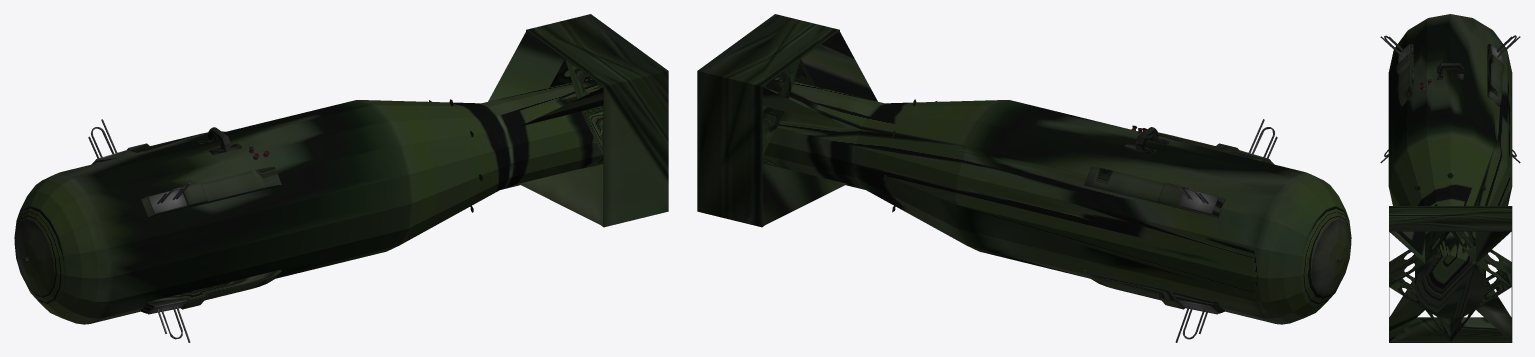
3 renders of one model, left to right at view 1: azimuth 30°, elevation 25°; view 2: azimuth 150°, elevation 25°; view 3: azimuth 270°, elevation 25°, orthographic. The views are drawn at different scales.
Visible parts, largest first — view 1: Object_7, Object_6, Object_4, Object_5, Object_2; view 2: Object_7, Object_6, Object_4, Object_5, Object_2; view 3: Object_7, Object_6, Object_4, Object_5, Object_2.
Boxes of the visible parts, left/top/right/bottom form: Object_7: left=14, top=78, right=603, bottom=324; Object_6: left=488, top=14, right=668, bottom=227; Object_4: left=93, top=131, right=281, bottom=313; Object_5: left=88, top=119, right=190, bottom=342; Object_2: left=196, top=127, right=241, bottom=155; Object_7: left=762, top=77, right=1351, bottom=324; Object_6: left=697, top=14, right=877, bottom=227; Object_4: left=1084, top=132, right=1272, bottom=313; Object_5: left=1175, top=119, right=1277, bottom=342; Object_2: left=1124, top=127, right=1169, bottom=154; Object_7: left=1388, top=14, right=1512, bottom=318; Object_6: left=1389, top=206, right=1512, bottom=342; Object_4: left=1396, top=44, right=1504, bottom=106; Object_5: left=1380, top=35, right=1520, bottom=163; Object_2: left=1437, top=63, right=1463, bottom=79.
Bounding box in the file's own units: 4.76 × 1.21 × 1.2.
Materials: 6 (6 with a texture image).
